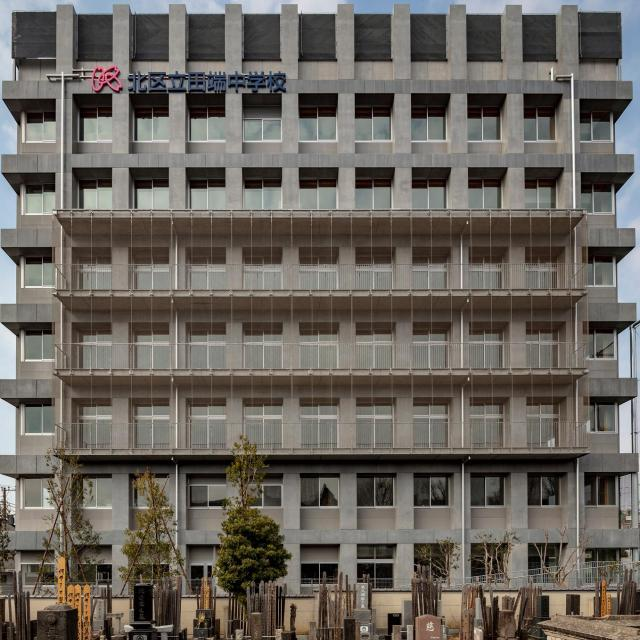Railing: (53, 262, 585, 290), (57, 424, 592, 450), (58, 345, 592, 370), (394, 556, 636, 589)
plant: (36, 446, 107, 586), (115, 472, 186, 589), (212, 502, 292, 589), (225, 437, 268, 502)
wall: (0, 4, 636, 592)
windows: (187, 484, 282, 509), (299, 544, 340, 590), (358, 548, 393, 590), (298, 103, 334, 142), (356, 101, 392, 140), (408, 106, 446, 142), (244, 106, 281, 142), (187, 106, 223, 143), (467, 105, 503, 142), (241, 178, 282, 210), (133, 106, 168, 143), (523, 107, 558, 143), (527, 472, 562, 507), (469, 475, 504, 510), (353, 178, 389, 212), (412, 474, 448, 508), (134, 475, 170, 509), (357, 474, 392, 508), (80, 477, 114, 512), (586, 475, 620, 509), (304, 473, 338, 507), (581, 182, 615, 215), (22, 476, 56, 509), (78, 110, 112, 142), (578, 112, 612, 144), (21, 332, 57, 362), (471, 548, 507, 578), (22, 404, 56, 435), (299, 181, 335, 210), (24, 112, 58, 142), (587, 255, 617, 289), (412, 180, 448, 208), (22, 258, 55, 288), (22, 186, 55, 216), (188, 179, 221, 209), (523, 180, 556, 210), (80, 181, 112, 211), (136, 180, 169, 209), (468, 182, 502, 210), (589, 400, 617, 434), (587, 330, 617, 359), (298, 403, 338, 421), (297, 332, 342, 346), (470, 404, 505, 421), (190, 327, 227, 343), (356, 406, 392, 422), (525, 405, 560, 421), (132, 331, 171, 345), (131, 407, 170, 421), (416, 329, 448, 346), (413, 408, 445, 425), (245, 406, 281, 421), (188, 404, 224, 419), (76, 330, 112, 344), (76, 407, 112, 421), (351, 253, 392, 265), (246, 331, 281, 345), (358, 333, 394, 346), (525, 331, 561, 344), (298, 255, 338, 265), (468, 331, 506, 341), (412, 255, 450, 265), (188, 257, 226, 266), (132, 256, 170, 265), (245, 256, 282, 265), (75, 256, 111, 265), (470, 256, 502, 266), (525, 256, 558, 264)
